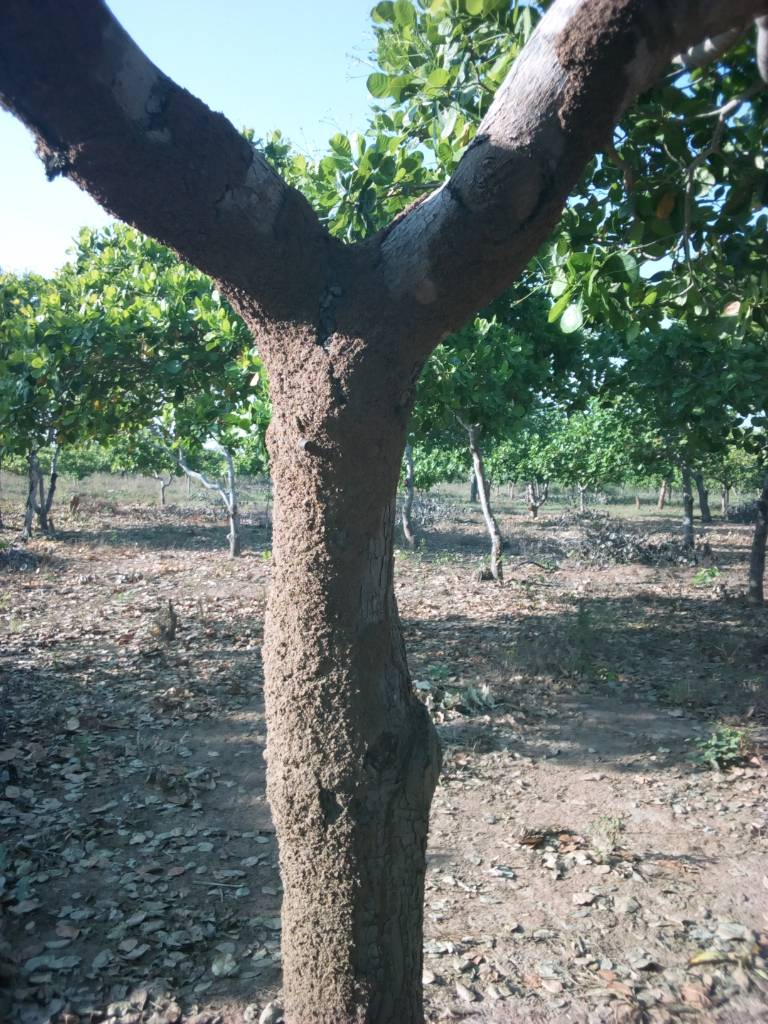Virose: (217, 302, 520, 1024)
